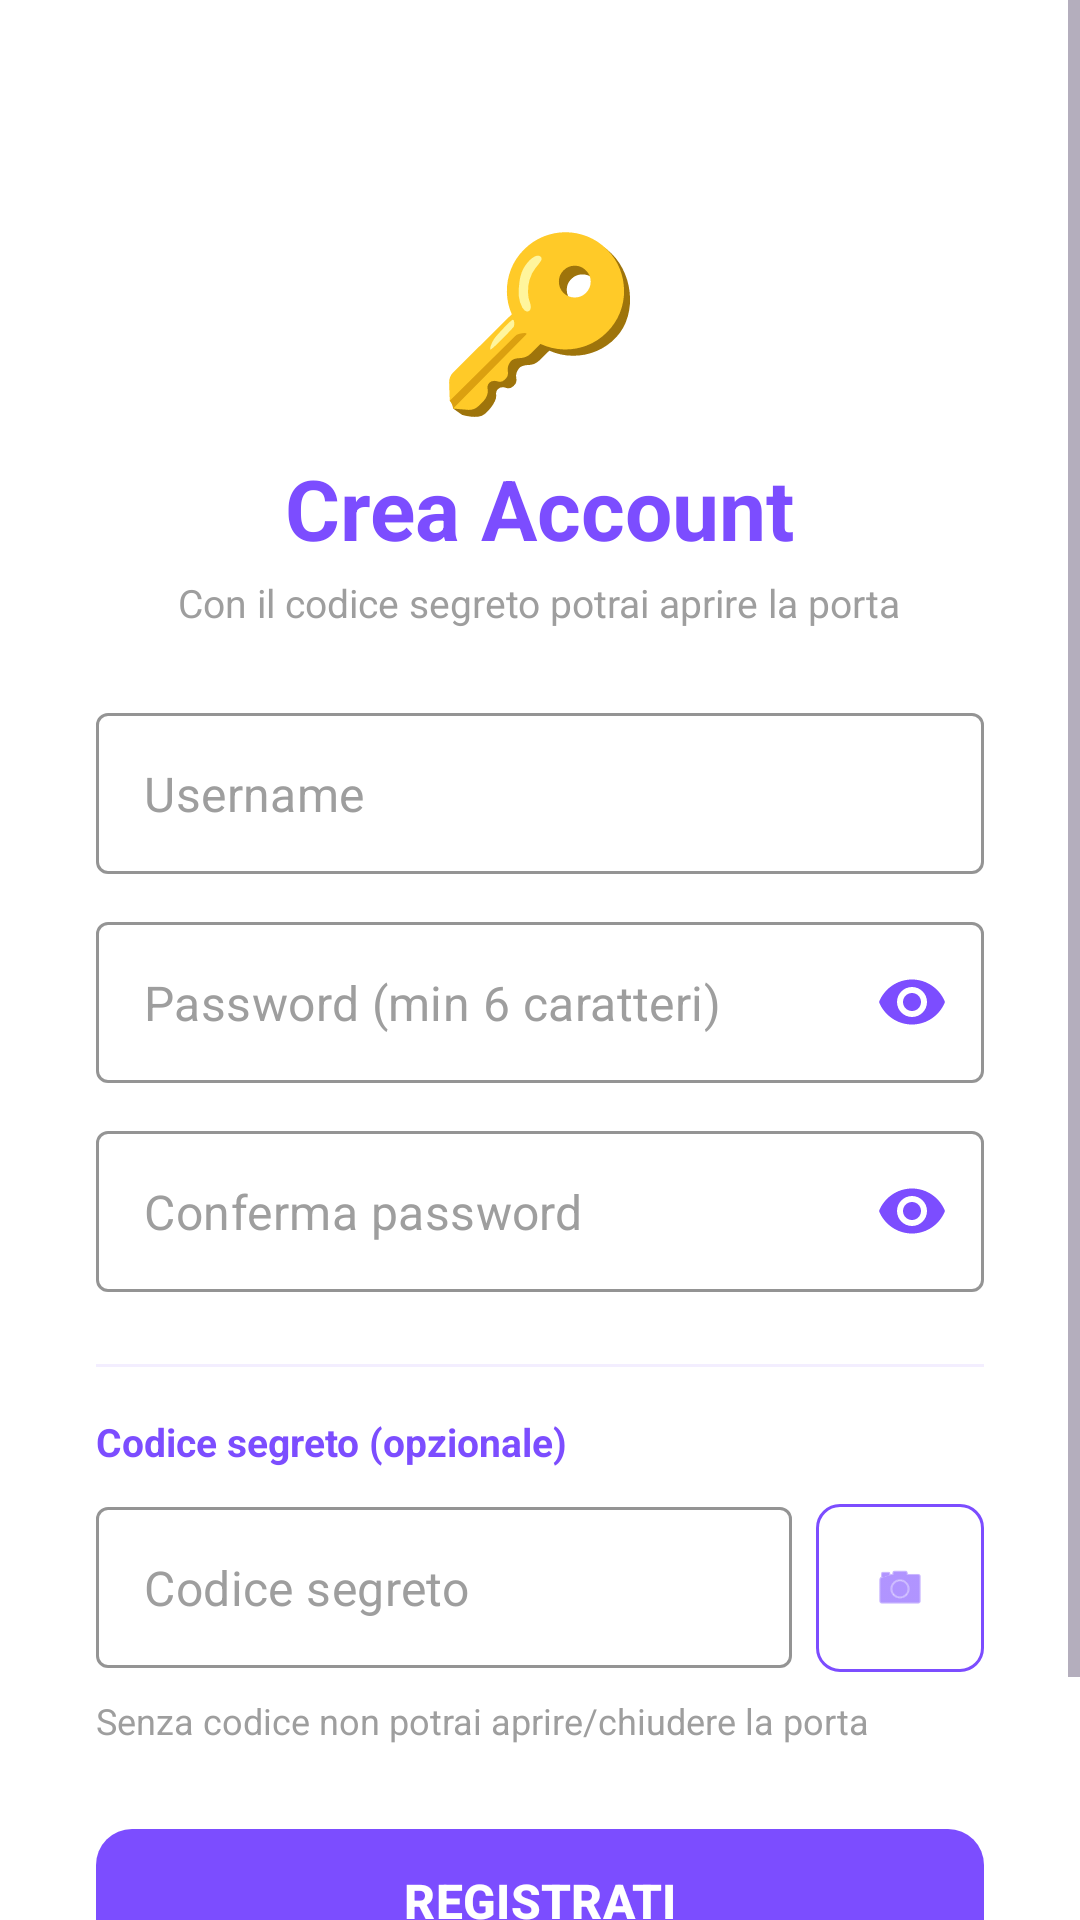

Named icons in this screenshot (1080*1920) and their centers, (x=x, y=y):
Scansiona QR: (x=900, y=1588)
